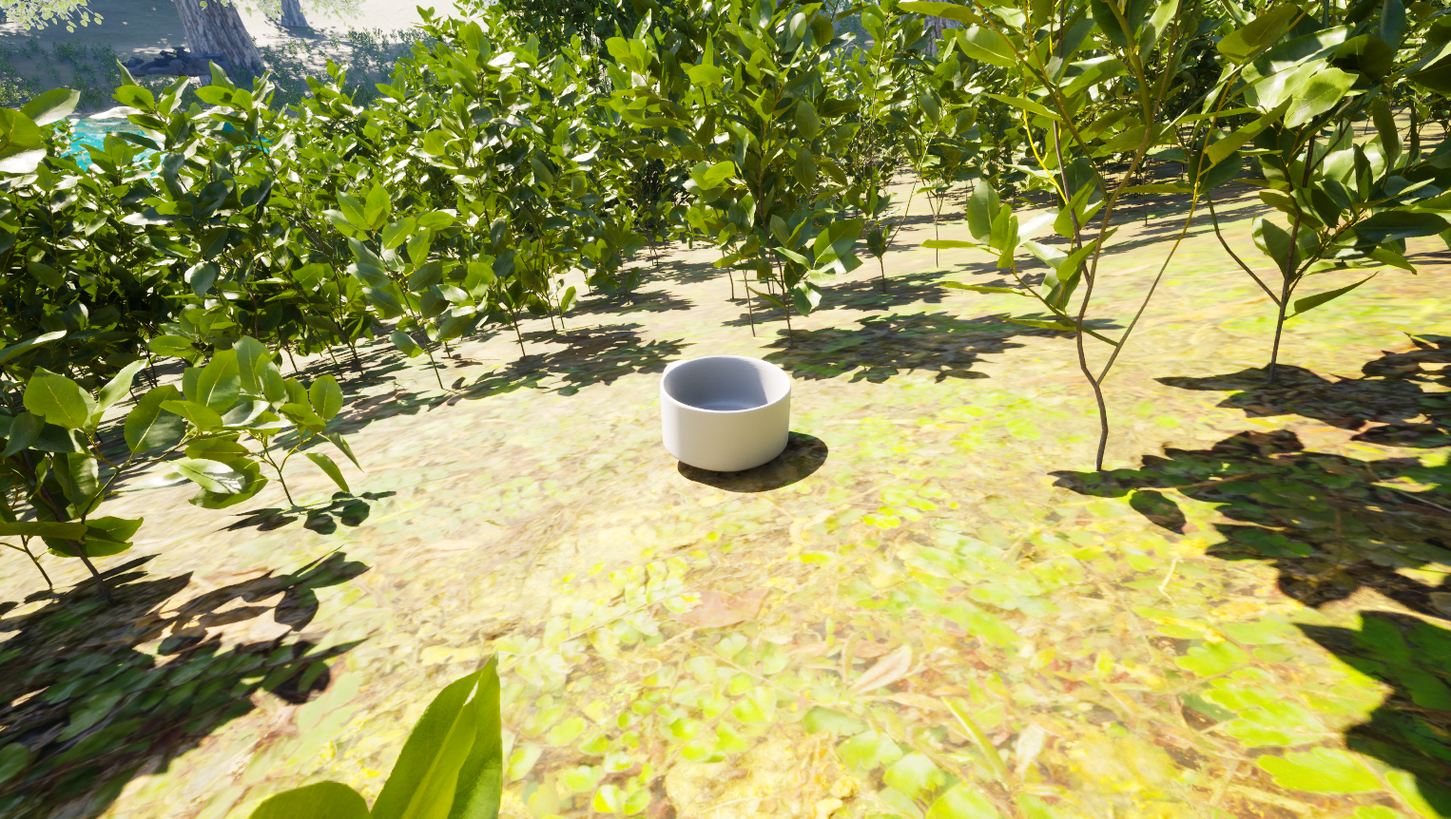Teacup: (658, 345, 805, 477)
